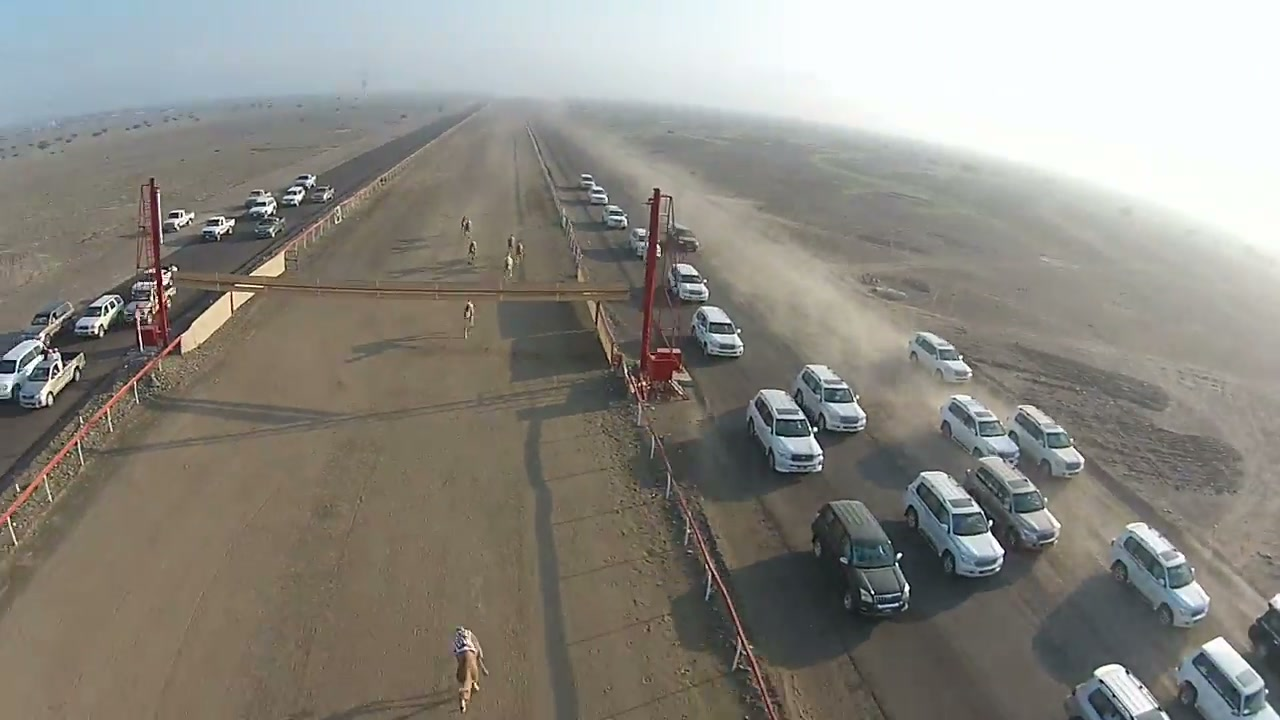animal_footprint: (580, 391, 735, 711)
